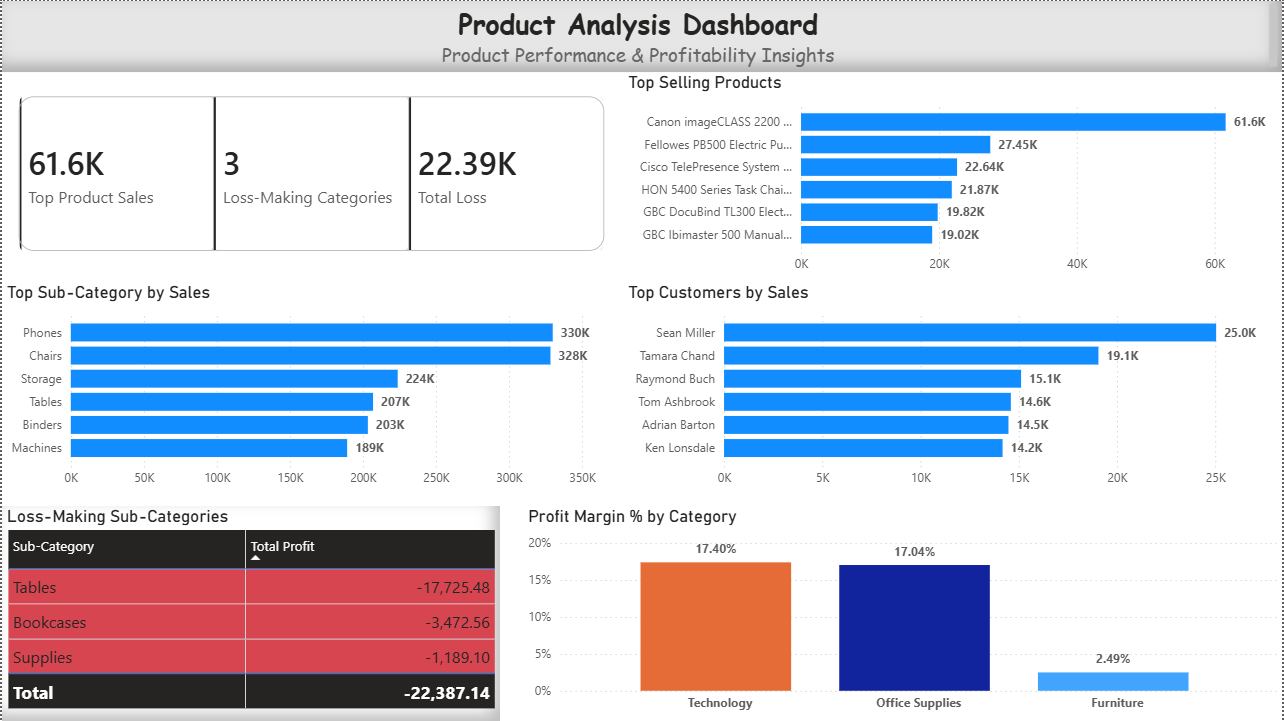

The dashboard page shown, as its layout file describes it:
{"tool":"powerbi","page":{"name":"Product Analysis","canvas":[1280,720],"ordinal":1},"visuals":[{"type":"clusteredBarChart","title":"Top Selling Products","fields":{"Category":["Sales_Data.Product Name"],"Y":["Sales_Data.Total Sales"]},"box":[621.2,71.2,658.8,210],"z":0},{"type":"clusteredBarChart","title":"Top Customers by Sales","fields":{"Category":["Sales_Data.Customer Name"],"Y":["Sales_Data.Total Sales"]},"box":[621.2,281.2,658.8,213.8],"z":1000},{"type":"clusteredBarChart","title":"Top Sub-Category by Sales","fields":{"Category":["Sales_Data.Sub-Category"],"Y":["Sales_Data.Total Sales"]},"box":[0,281.2,621.2,213.8],"z":2000},{"type":"tableEx","title":"Loss-Making Sub-Categories","fields":{"Values":["Sales_Data.Sub-Category","Sales_Data.Total Profit"]},"box":[0,505,498.8,215],"z":3000},{"type":"clusteredColumnChart","fields":{"Category":["Sales_Data.Category"],"Y":["Sales_Data.Profit Margin %"]},"box":[521.7,505,758.3,215],"z":4000},{"type":"textbox","box":[0,0,1280,71.2],"z":5000},{"type":"cardVisual","fields":{"Data":["Sales_Data.Top Product Sales","Sales_Data.Loss Categories","Sales_Data.Total Loss"]},"box":[6.2,85,608.8,175],"z":6000}]}

Visuals, with their boxes in screenshot pixels (x1, y1, x2, y2), scaled from the page's 1280x720 canvas onto the 1284x721 screenshot:
"Top Selling Products" clusteredBarChart: (623, 71, 1283, 282)
"Top Customers by Sales" clusteredBarChart: (623, 282, 1283, 496)
"Top Sub-Category by Sales" clusteredBarChart: (0, 282, 623, 496)
"Loss-Making Sub-Categories" tableEx: (0, 506, 500, 720)
clusteredColumnChart - Sales_Data.Category x Sales_Data.Profit Margin %: (523, 506, 1283, 720)
textbox: (0, 0, 1283, 71)
cardVisual - Sales_Data.Top Product Sales x Sales_Data.Loss Categories: (6, 85, 617, 260)
